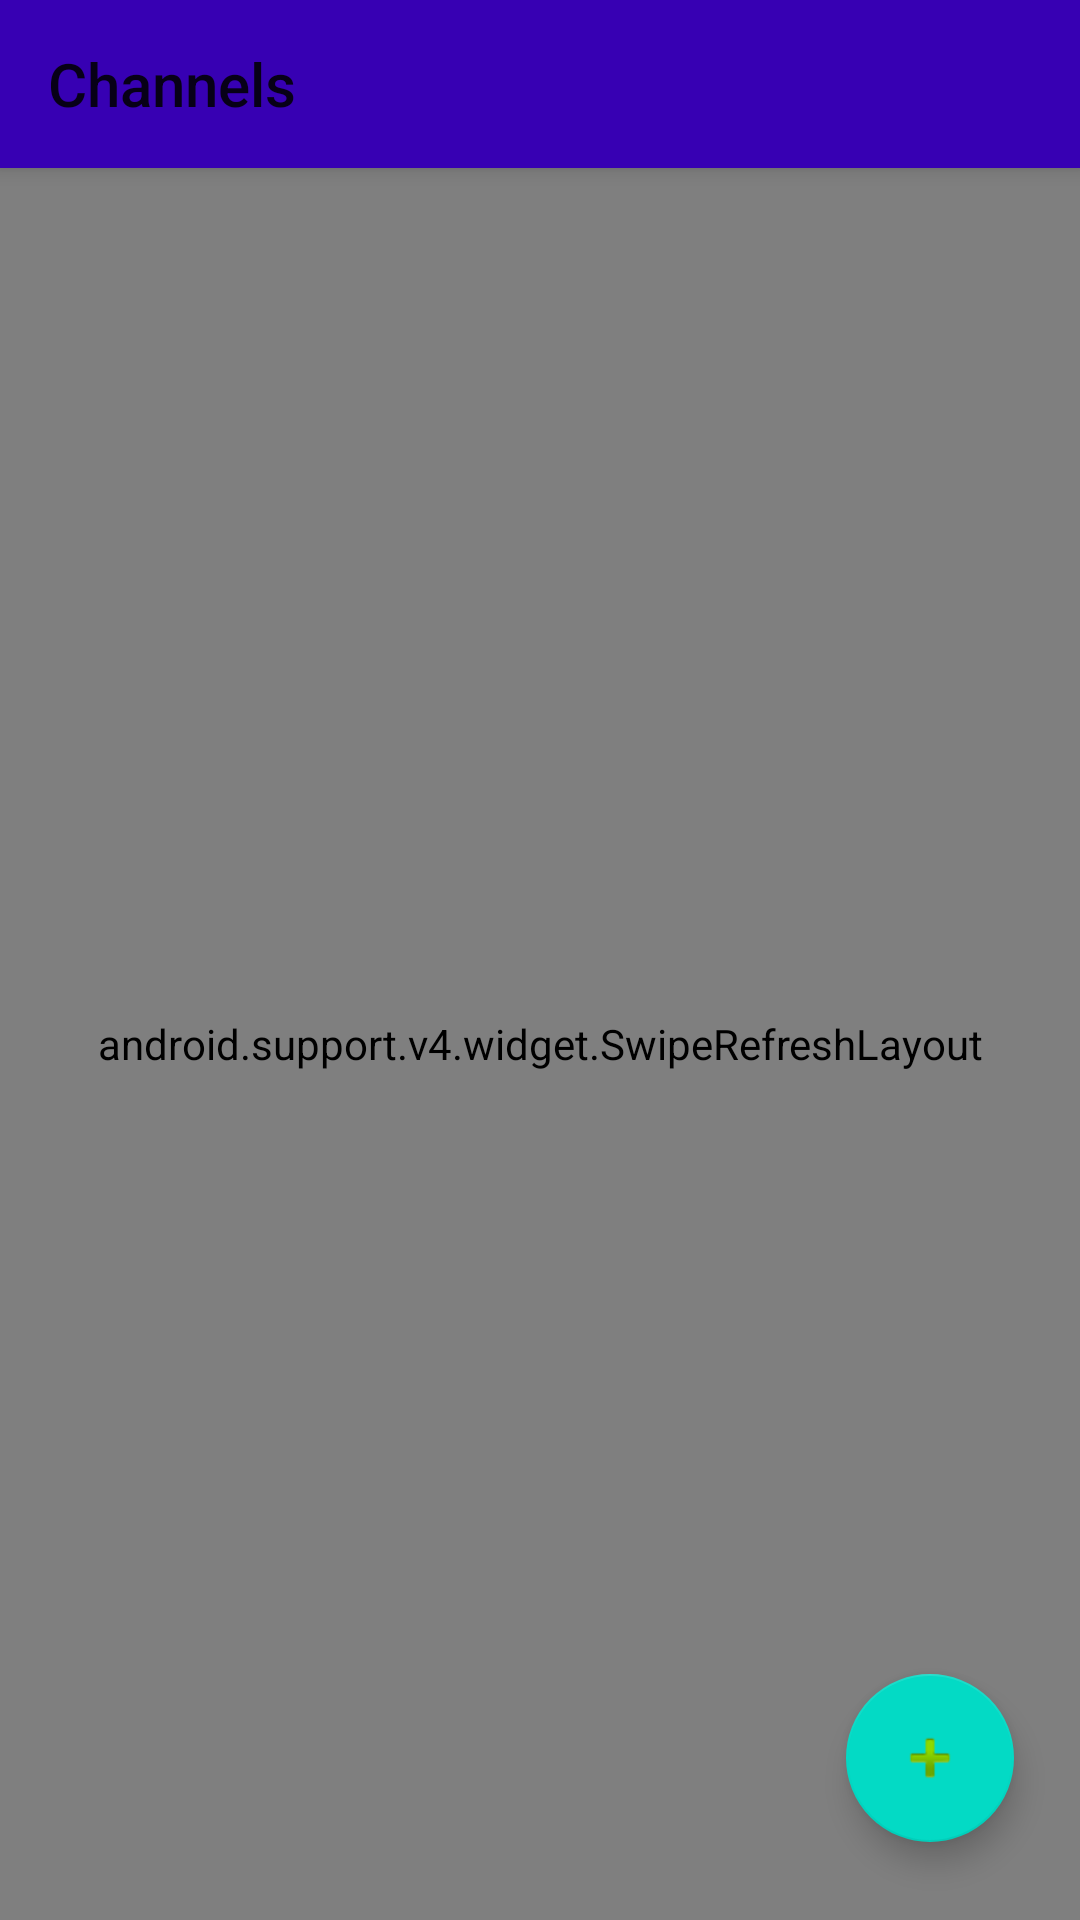

Named icons in this screenshot (1080x1920) and their bounding boxes, (x1=x1, y1=y1, x2=x2, y2=y2):
add: (x1=846, y1=1674, x2=1014, y2=1842)
